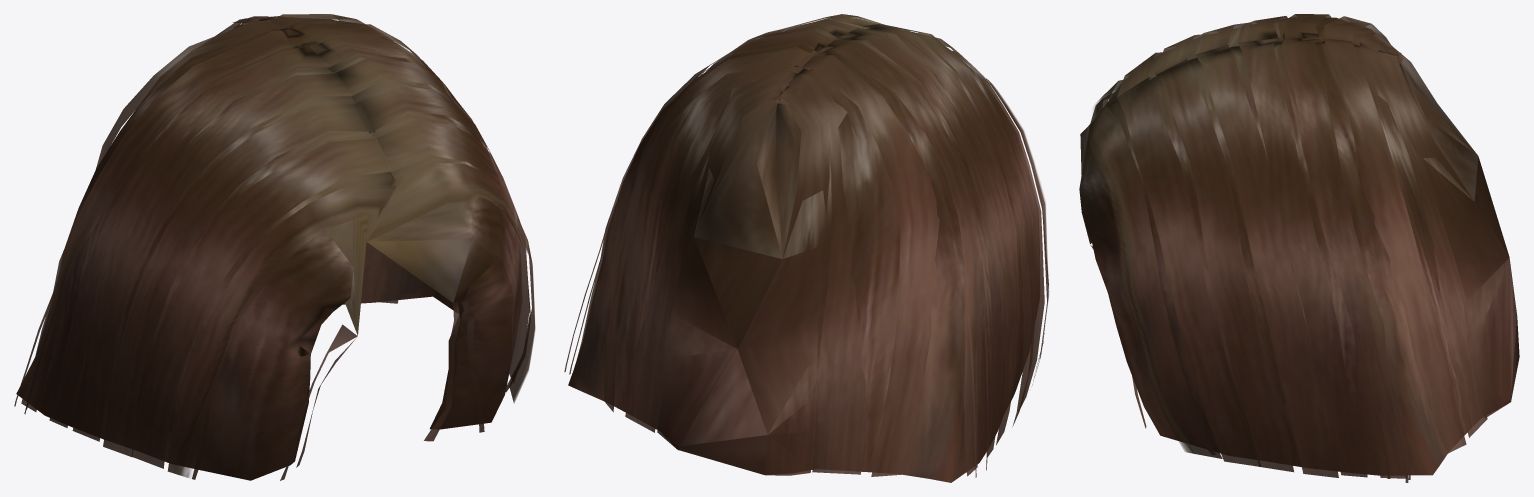
Rendered from short-african.glb.
3 views of the same model, side by side, from view 1: azimuth 30°, elevation 25°; view 2: azimuth 150°, elevation 25°; view 3: azimuth 270°, elevation 25° (orthographic). The views are drawn at different scales.
Parts seen in each view (by area): view 1: hair_short; view 2: hair_short; view 3: hair_short.
Boxes of the visible parts, box(x1,y1,x2,y2) form: hair_short: box(14, 14, 535, 480); hair_short: box(564, 14, 1048, 482); hair_short: box(1079, 14, 1519, 482).
Size of the model in its own units: 0.2757 by 0.2167 by 0.2498.
1 material, 1 textured.
